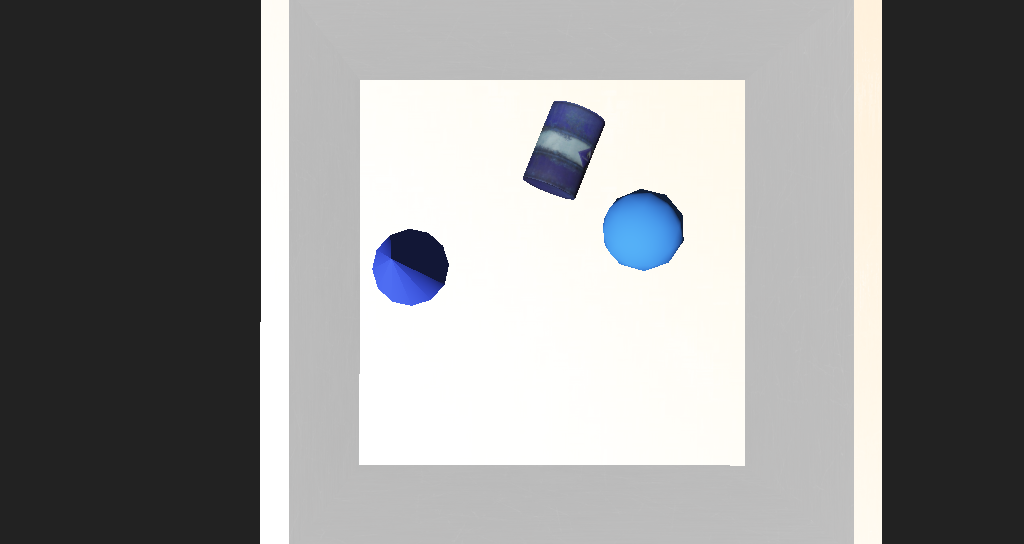cone: (478, 172, 546, 229)
cylinder: (344, 239, 424, 286)
sphere: (539, 227, 606, 270)
